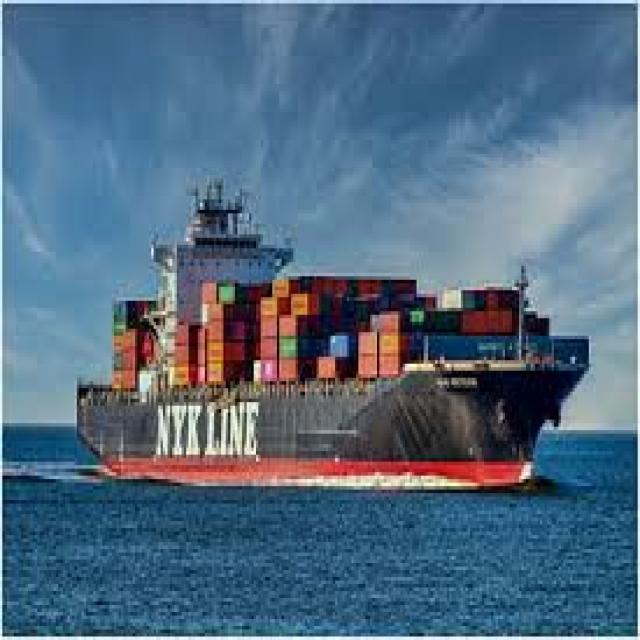cargoship: (70, 166, 587, 494)
